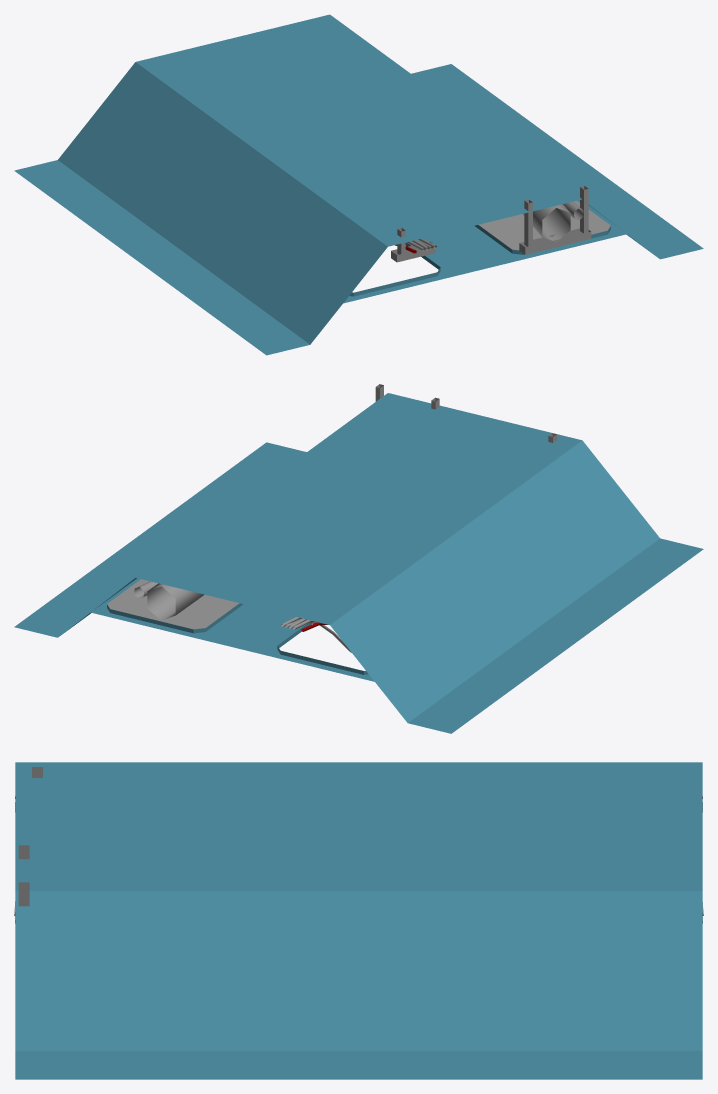
Rendered from way top B.FBX.
3 views of the same model, one above another, from view 1: azimuth 30°, elevation 25°; view 2: azimuth 150°, elevation 25°; view 3: azimuth 270°, elevation 25° (orthographic). The views are drawn at different scales.
Parts seen in each view (by area): view 1: Group139, cable other006; view 2: Group139, cable other006; view 3: Group139, cable other006.
Boxes of the visible parts, bbox=[...] form: Group139: bbox=[14, 14, 703, 355]; cable other006: bbox=[519, 186, 591, 254]; Group139: bbox=[14, 393, 703, 733]; cable other006: bbox=[134, 384, 439, 620]; Group139: bbox=[15, 762, 702, 1079]; cable other006: bbox=[14, 845, 703, 923].
Bounding box in the file's own units: 4 × 1.29 × 4.01.
